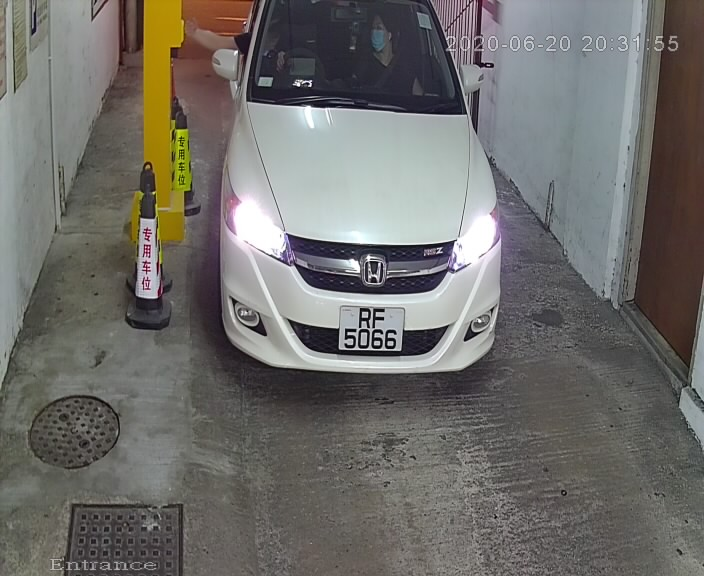privatecar: (192, 5, 526, 400)
